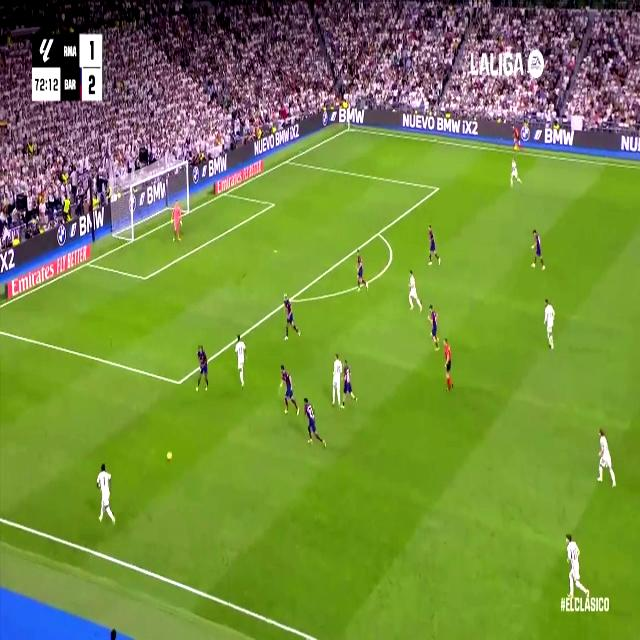bigarea_bottom_inner: (174, 370, 184, 394)
bigarea_top_inner: (434, 181, 440, 195)
bigarea_top_outter: (284, 155, 290, 166)
bottom_arc_area_intersection: (286, 290, 295, 307)
corner: (345, 123, 353, 133)
smallarea_bottom_inner: (141, 269, 149, 287)
smallarea_bottom_outter: (84, 254, 93, 270)
smallarea_top_inner: (271, 199, 275, 209)
top_arc_area_intersection: (375, 224, 382, 240)
